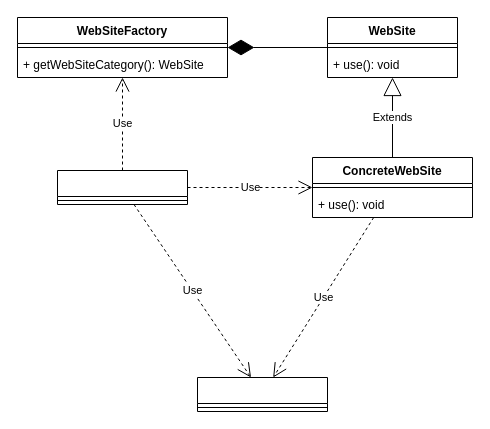
This 490x429 diagram has some shape labels left out. Each missing label, with the centre of its shape:
"Client" belongs at [122,187].
"User" belongs at [262,394].
